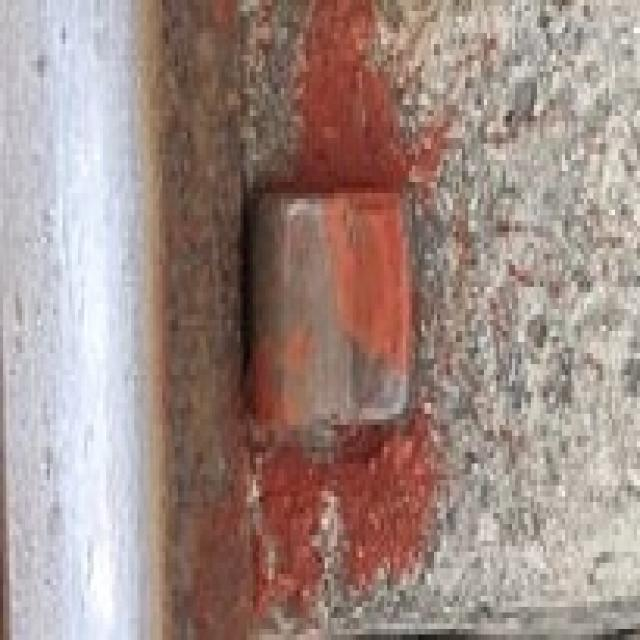track_bolt_missing: (240, 180, 364, 445)
